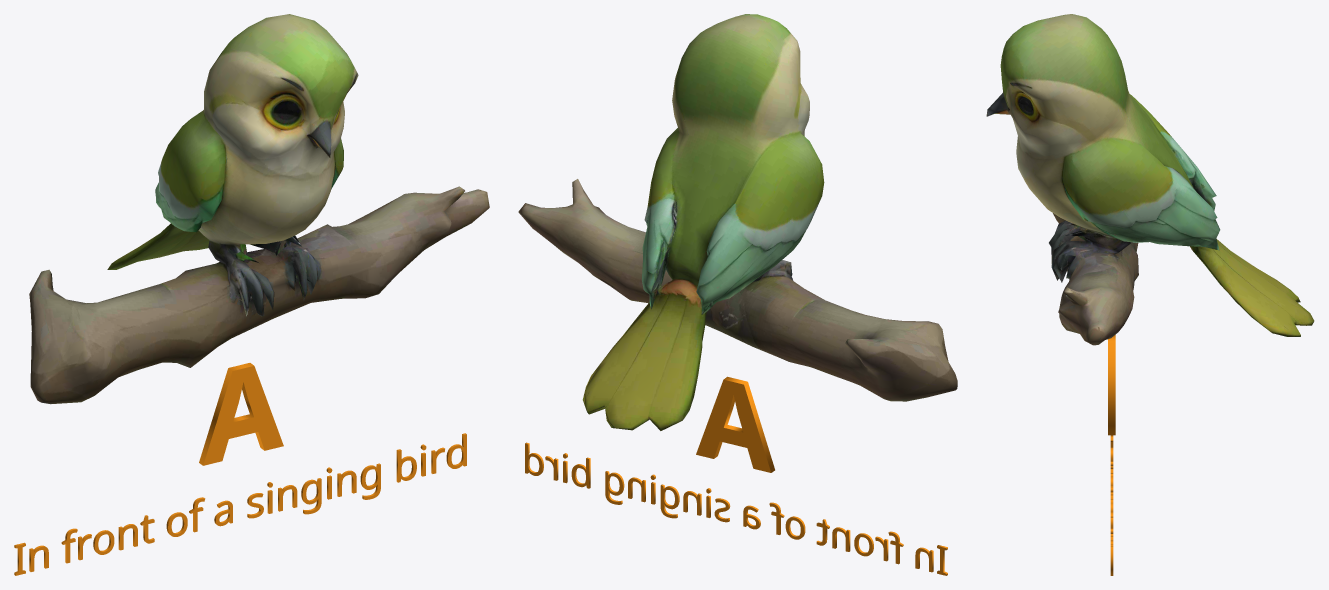
File: A_bird.glb
The picture shows the model from 3 angles, left to right: view 1: azimuth 30°, elevation 25°; view 2: azimuth 150°, elevation 25°; view 3: azimuth 270°, elevation 25°; orthographic projection. The views are drawn at different scales.
Visible parts, largest first — view 1: A_Bird; view 2: A_Bird; view 3: A_Bird.
Boxes of the visible parts, x1=… form: A_Bird: x1=14, y1=14, x2=489, y2=575; A_Bird: x1=518, y1=14, x2=957, y2=575; A_Bird: x1=986, y1=14, x2=1314, y2=575.
Size of the model in its own units: 0.8957 by 0.9676 by 0.6066.
Materials: 2 (1 with a texture image).
